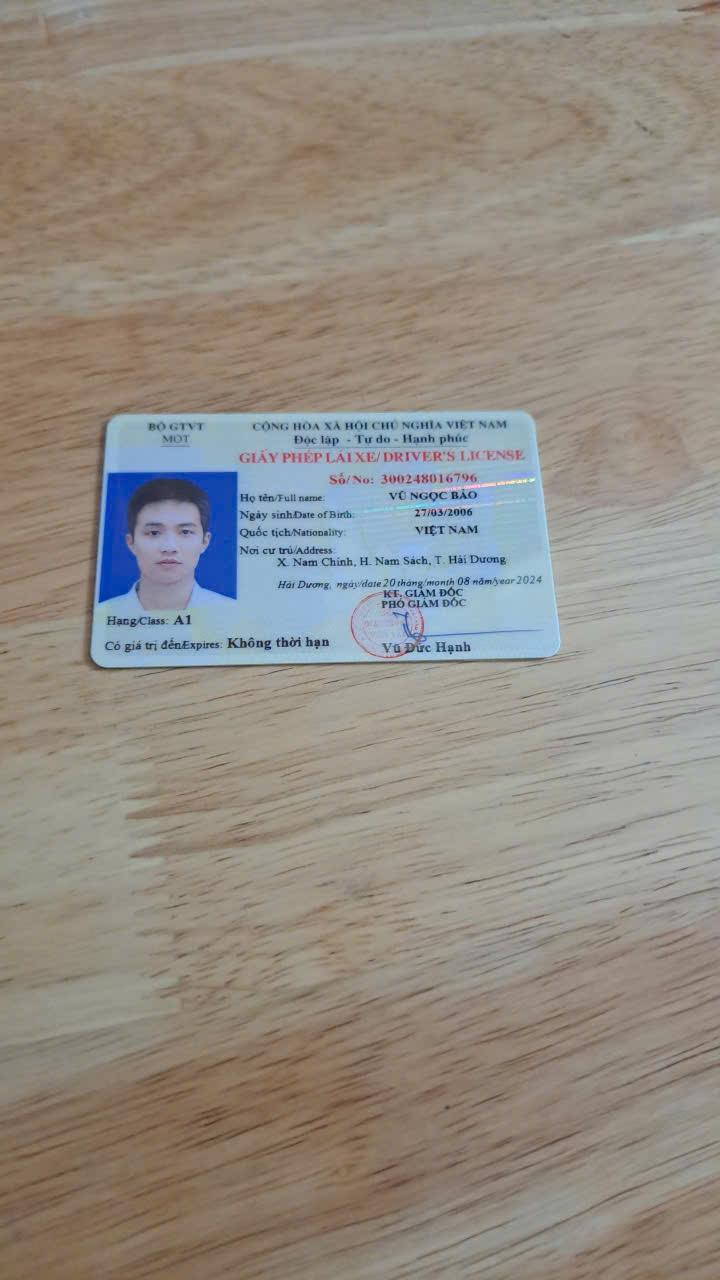gplx: (84, 403, 570, 680)
